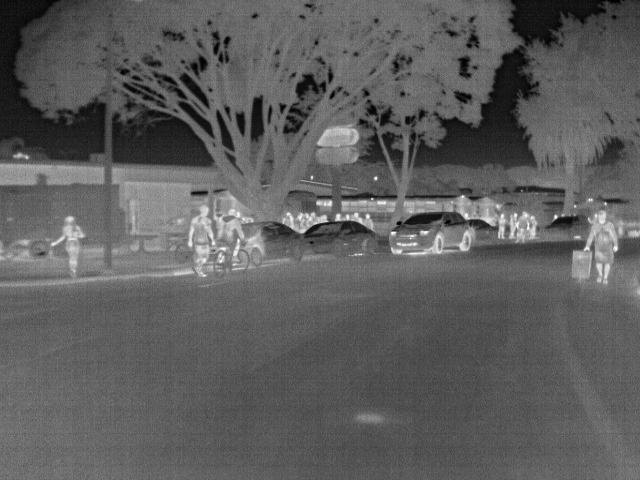car: (386, 210, 472, 253), (240, 221, 305, 267), (304, 221, 379, 256), (543, 214, 595, 241), (464, 216, 497, 244)
person: (584, 208, 620, 286), (51, 214, 88, 274), (188, 205, 218, 279), (213, 207, 246, 272), (496, 208, 511, 239), (514, 214, 530, 243), (361, 212, 376, 232), (280, 212, 295, 230), (351, 211, 364, 223), (333, 212, 345, 223), (341, 213, 352, 222)
